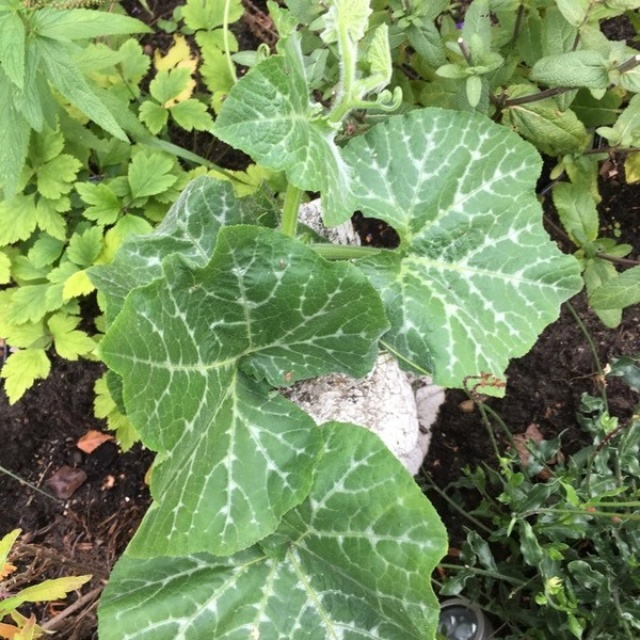obstacle: (106, 57, 585, 625), (445, 19, 624, 301), (20, 60, 160, 381), (493, 407, 630, 620)
